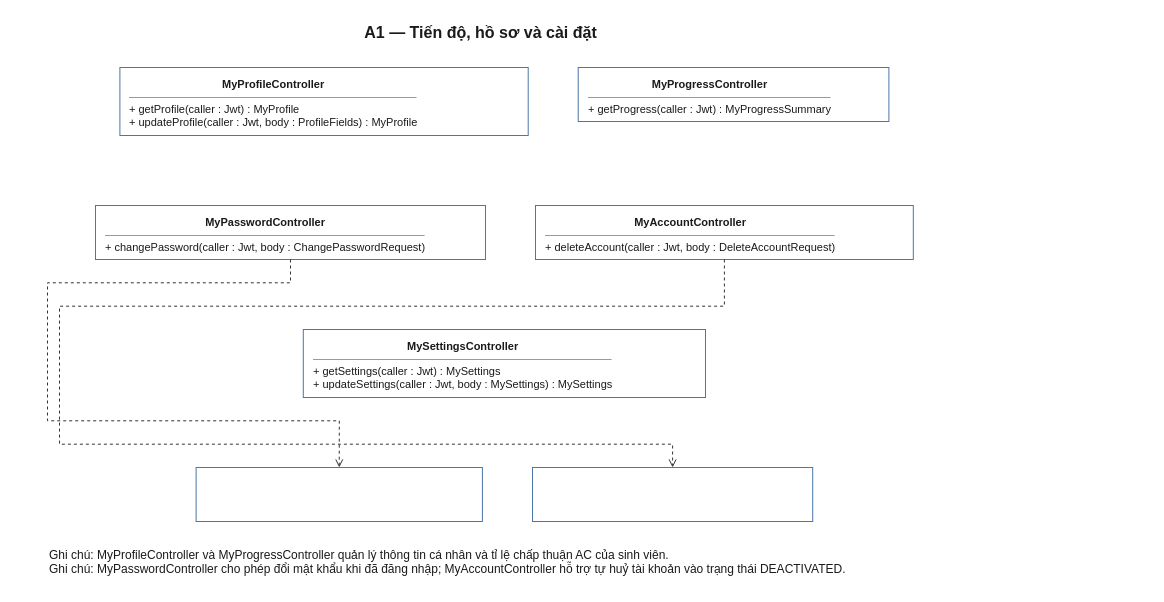
This 1164x602 diagram has some shape labels left out. The shapes that lost their labels are listed below. From the top down, each one's box as (x1, y1, x2, y2) in pixels, then its label:
(195, 466, 482, 522): ChangeMyPasswordCommandHandler + change(command : ChangeMyPasswordCommand)
(532, 466, 813, 522): DeleteMyAccountCommandHandler + delete(command : DeleteMyAccountCommand)
